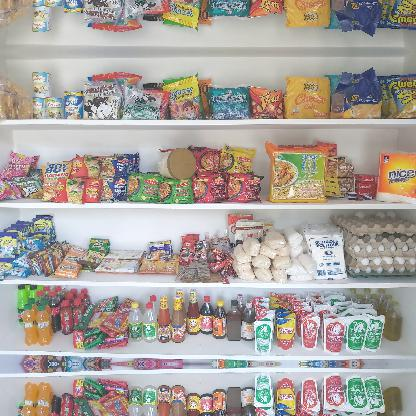Lady-s-Choice: (157, 147, 195, 179)
